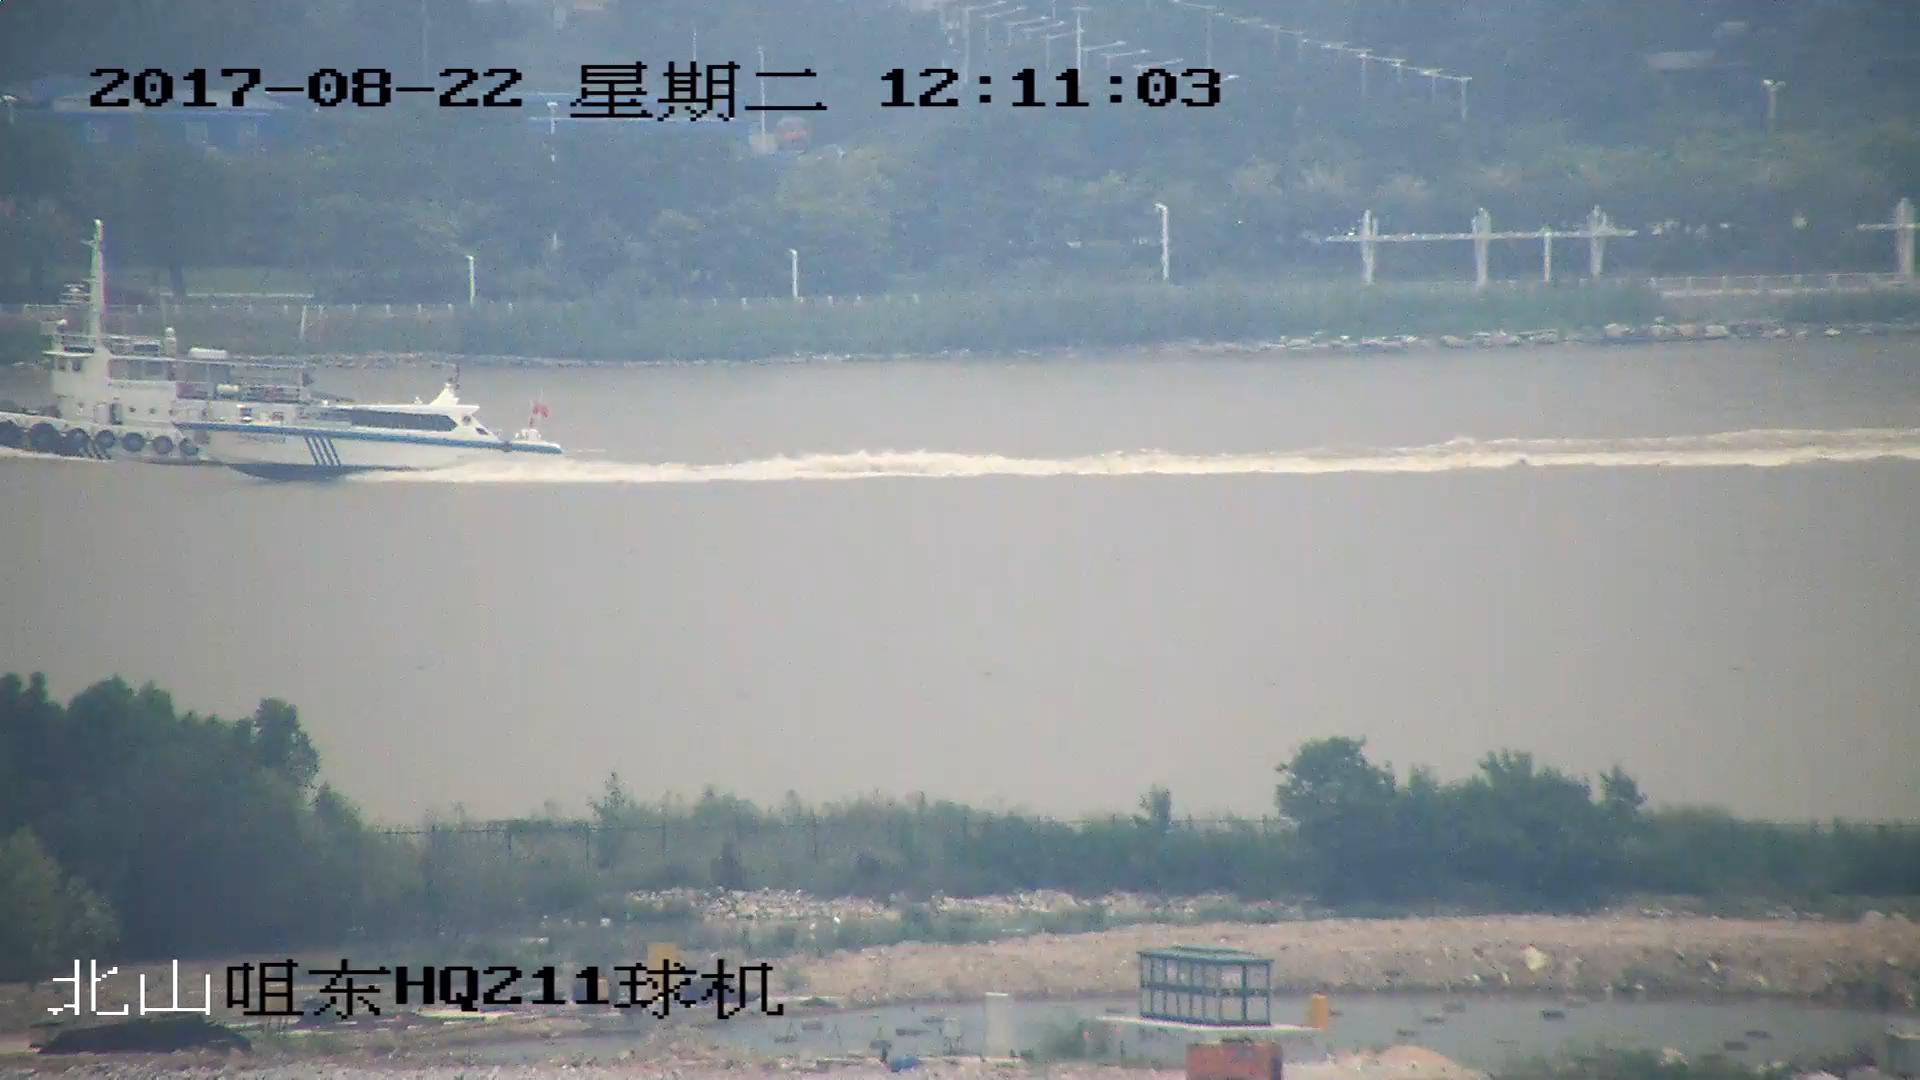passenger ship: (1, 225, 320, 469), (182, 371, 570, 487)
